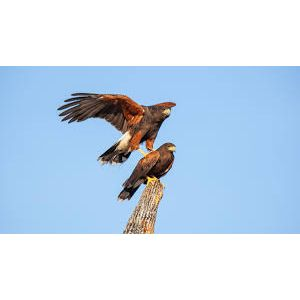hawk: (58, 84, 187, 167), (114, 140, 192, 204)
